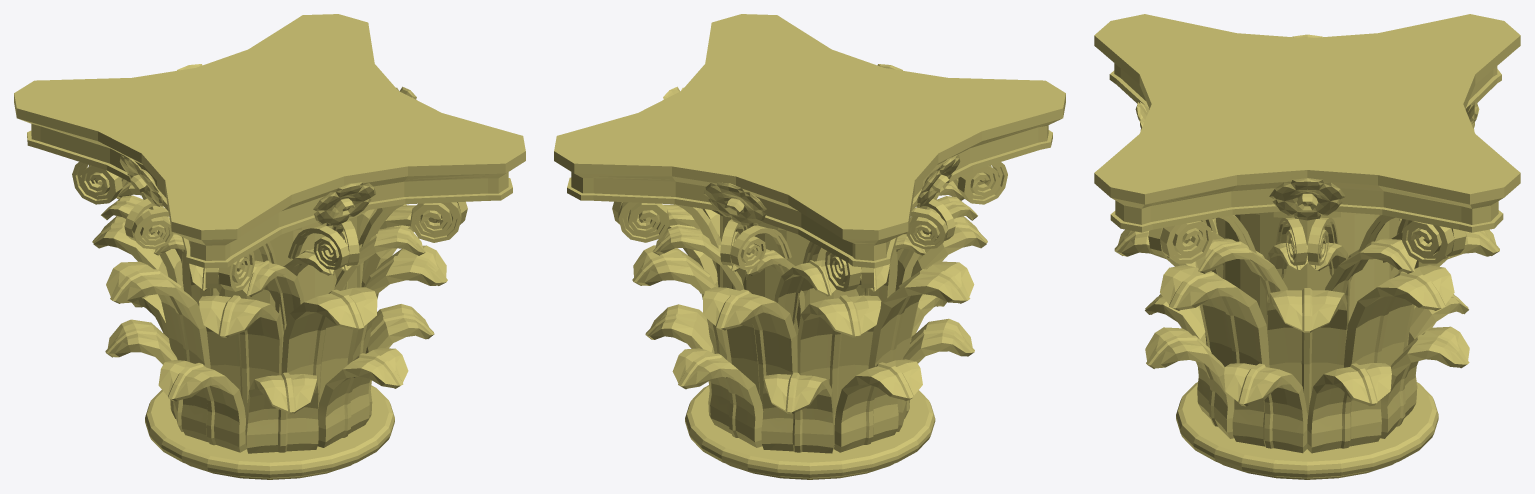
File: pasted__gold_225.fbx
3 views of the same model, side by side, from view 1: azimuth 30°, elevation 25°; view 2: azimuth 150°, elevation 25°; view 3: azimuth 270°, elevation 25° (orthographic). The views are drawn at different scales.
Parts seen in each view (by area): view 1: pasted__Node_1471; view 2: pasted__Node_1471; view 3: pasted__Node_1471.
Part boxes in pixels (left/top/right/bottom): pasted__Node_1471: left=14, top=14, right=525, bottom=479; pasted__Node_1471: left=554, top=14, right=1065, bottom=479; pasted__Node_1471: left=1094, top=14, right=1520, bottom=479.
Size of the model in its own units: 20.73 by 20.73 by 17.64.
